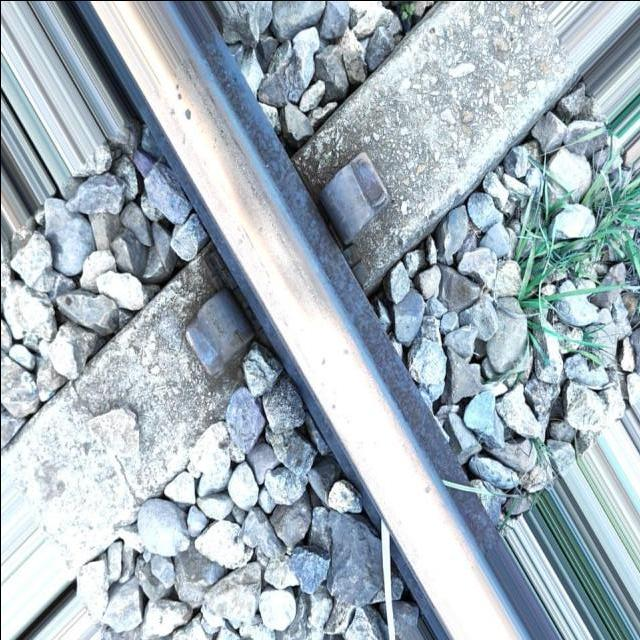broken_rail_medium: (169, 81, 191, 121)
